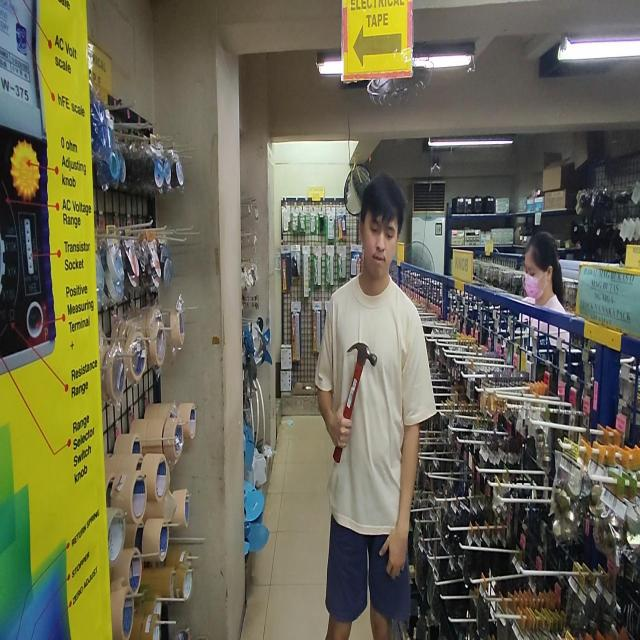hammer: (332, 343, 378, 464)
